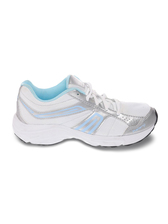shoes: (11, 73, 162, 152)
